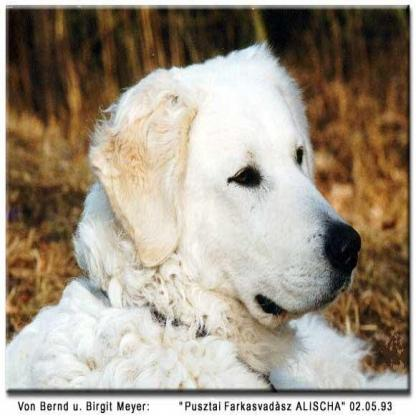kuvasz: (5, 40, 408, 387)
